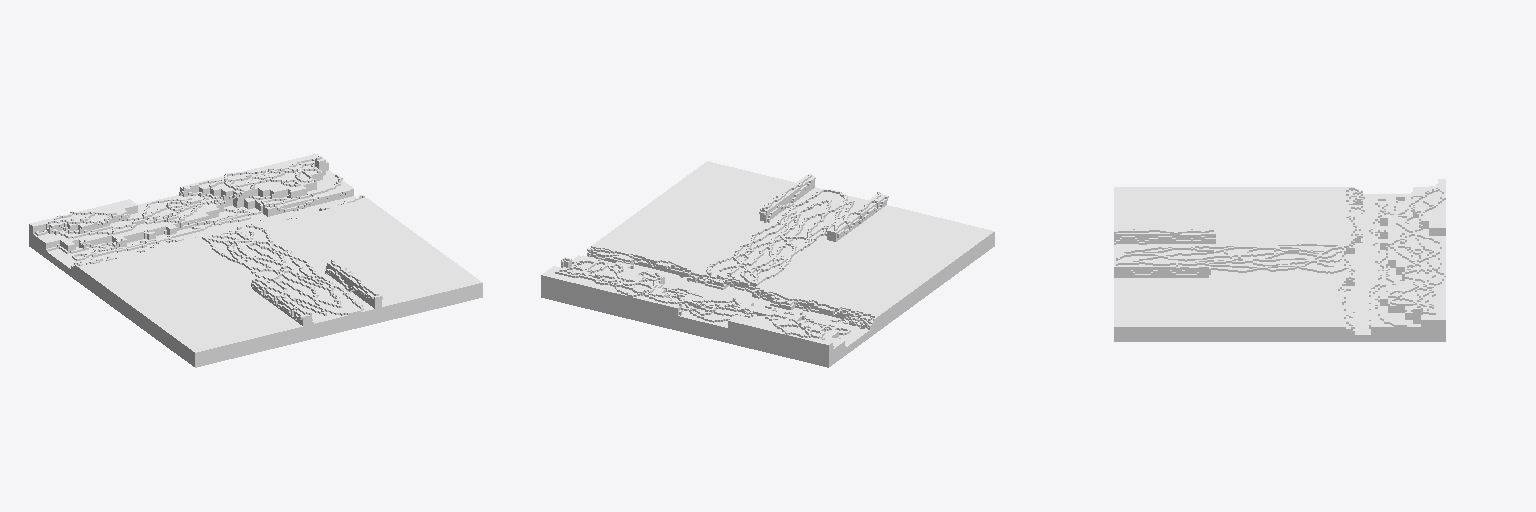
The model's file is suelo.obj.
3 renders of one model, left to right at view 1: azimuth 30°, elevation 25°; view 2: azimuth 150°, elevation 25°; view 3: azimuth 270°, elevation 25°, orthographic.
Parts seen in each view (by area): view 1: object 1; view 2: object 1; view 3: object 1.
Part boxes in pixels (x1,y1,x2,y2): object 1: (29,154,482,367); object 1: (541,161,994,367); object 1: (1114,179,1445,341).
Bounding box in the file's own units: 16 × 1.7 × 16.